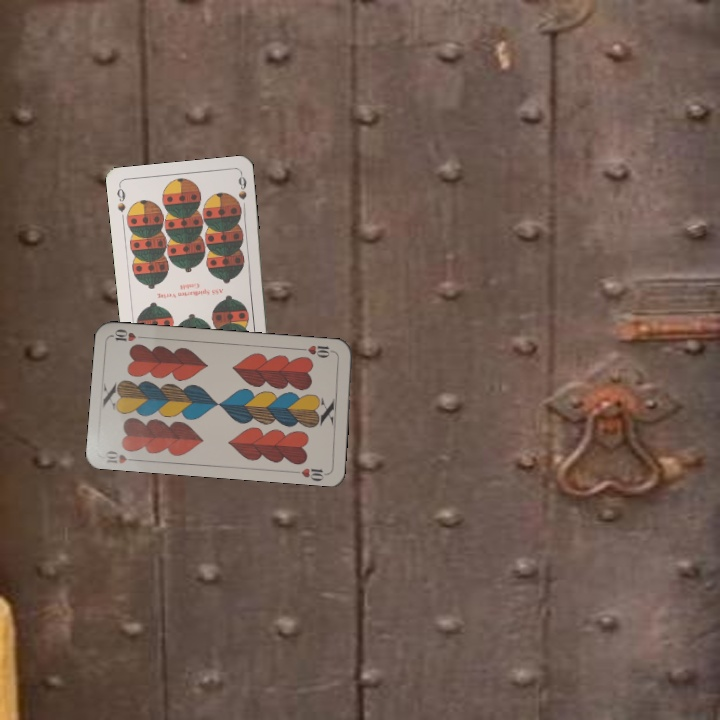H10: (297, 341, 338, 360), (101, 447, 141, 466)
S9: (113, 182, 128, 215)
